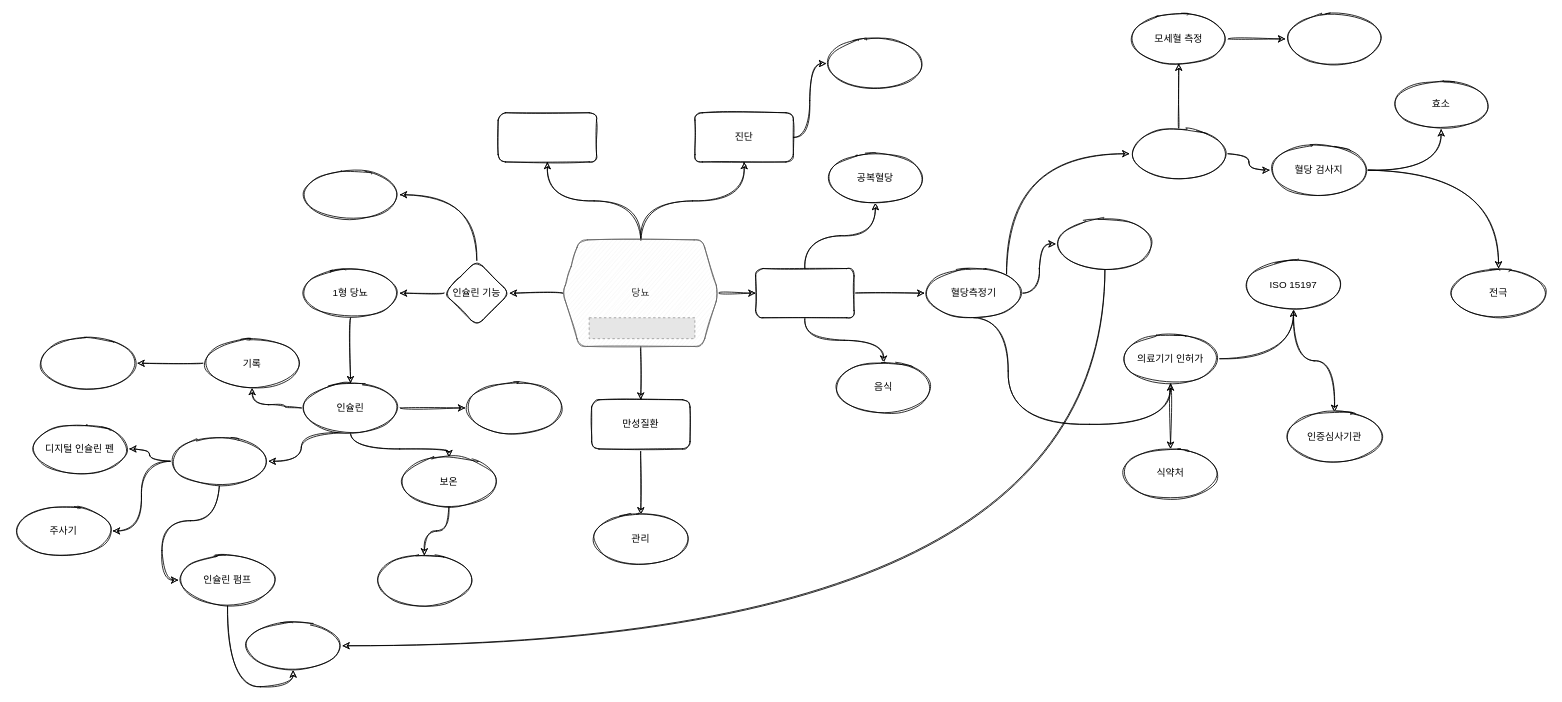
Image size: 1562x702. Some labels were removed from this diagram. Grey dashed boxes stand in for pictures. Here are the shapes that lost their labels. From the top down, the box of each, then its label:
(1285, 14, 1384, 64): 채혈침
(825, 38, 925, 88): 경구포도당검사
(497, 112, 597, 162): 합병증
(1129, 128, 1228, 178): 자가측정기기 (SMBG)
(301, 169, 400, 219): 2형 당뇨
(1055, 219, 1154, 269): 연속혈당측정기기 (CGMS)
(755, 268, 854, 318): 혈당
(38, 338, 137, 388): 인슐린 로거 (Logger)
(465, 383, 564, 433): 인슐린 카트리지
(169, 436, 269, 486): 투약
(374, 555, 474, 605): 인슐린 냉장고
(243, 620, 342, 670): 인공췌장
